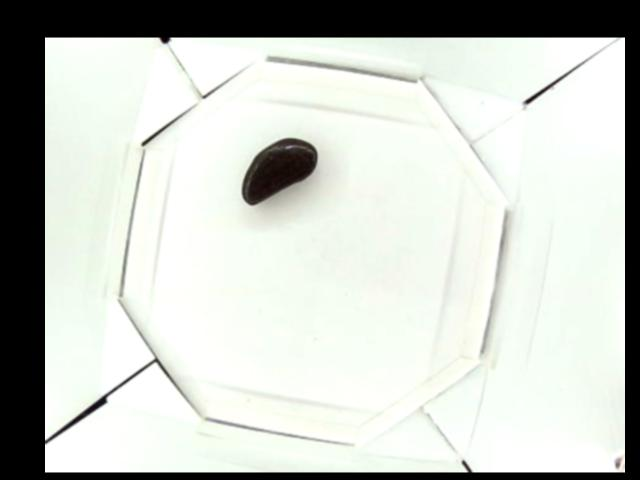Pebble: (239, 137, 317, 205)
